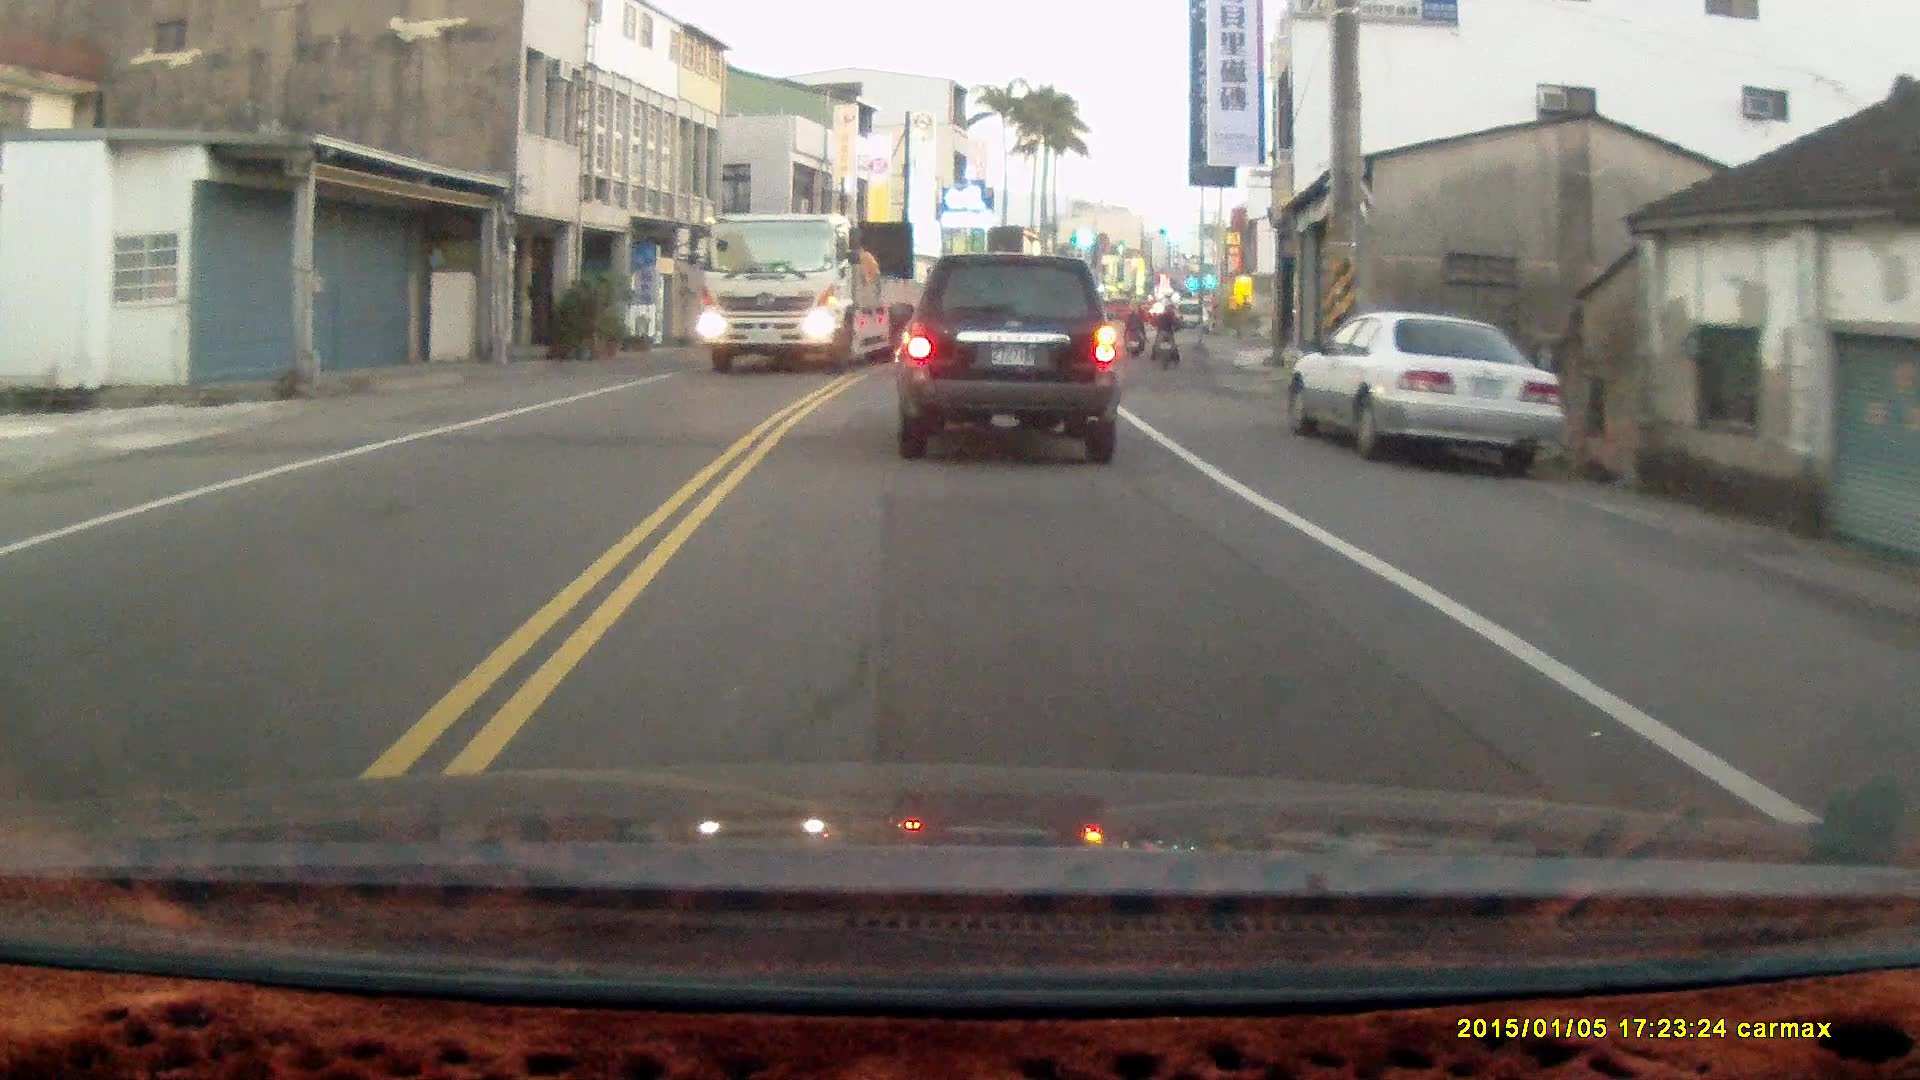rider: (1150, 294, 1181, 370), (1121, 299, 1146, 362)
vehicle: (892, 248, 1126, 464), (1292, 312, 1566, 469), (698, 208, 919, 371)
